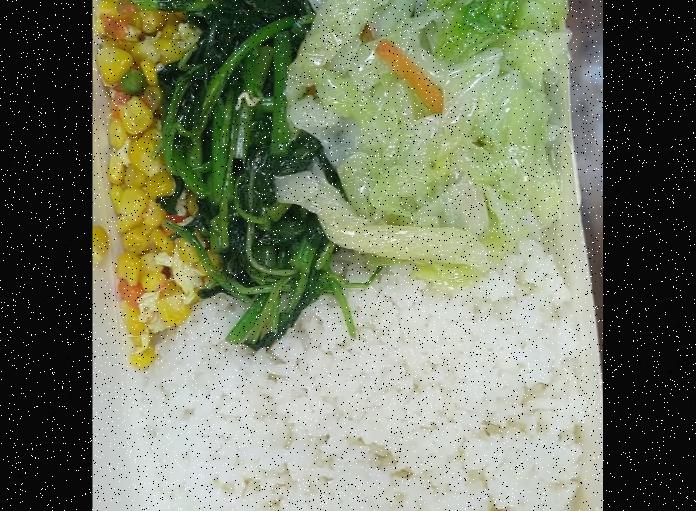box: (101, 0, 603, 511)
side dish: (327, 0, 555, 273), (180, 0, 353, 330), (107, 0, 202, 353)
white rice: (154, 233, 579, 511)
